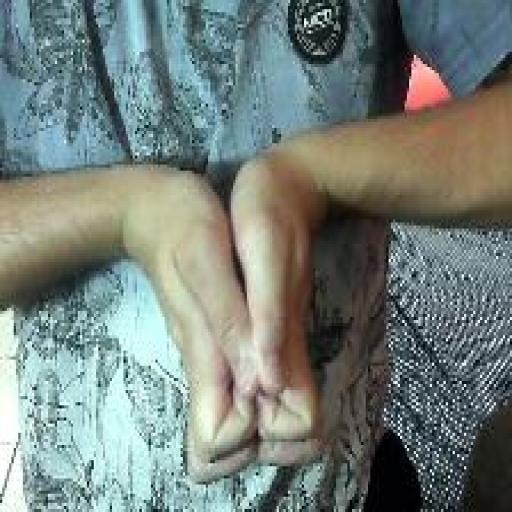I -boar-: (129, 151, 328, 486)
